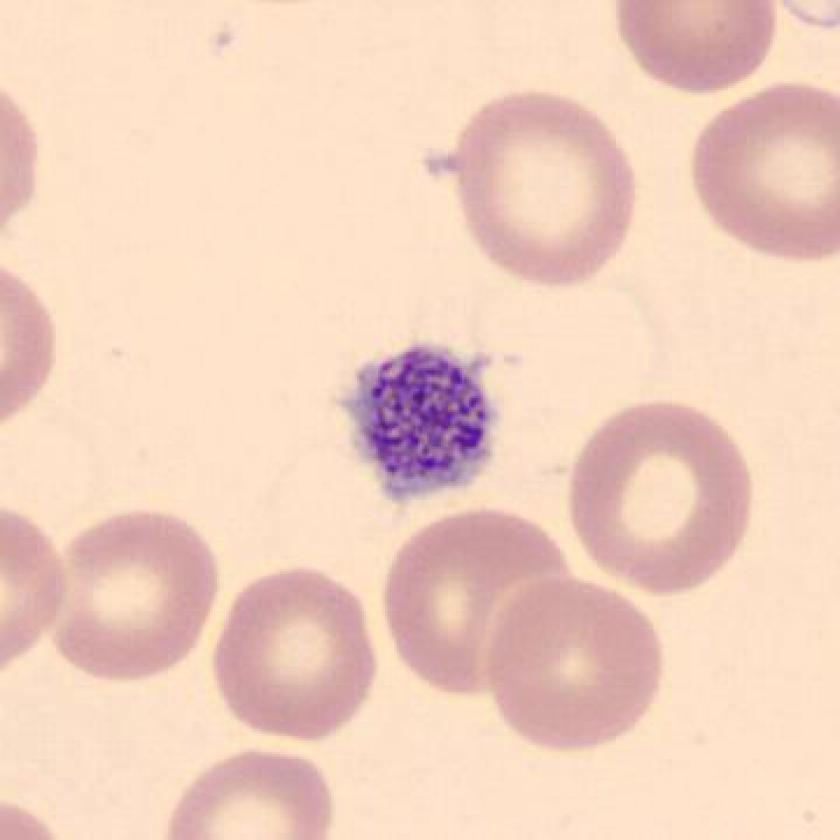platelets: (330, 327, 505, 517)
